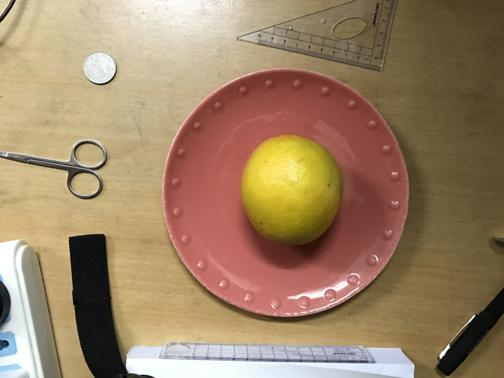coin: (244, 134, 343, 246)
orange: (244, 134, 343, 246)
